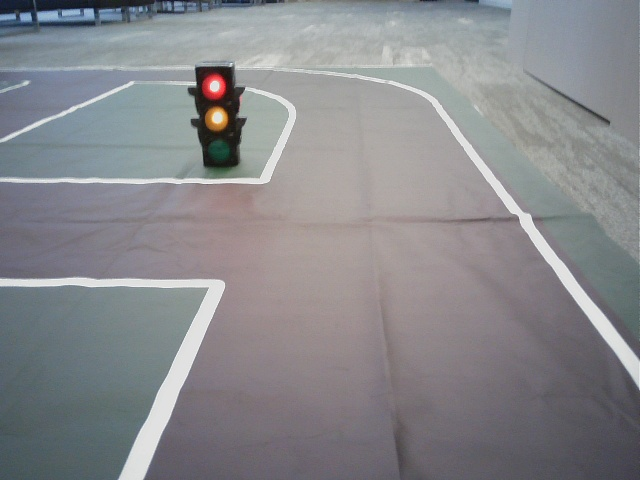red: (196, 70, 237, 163)
